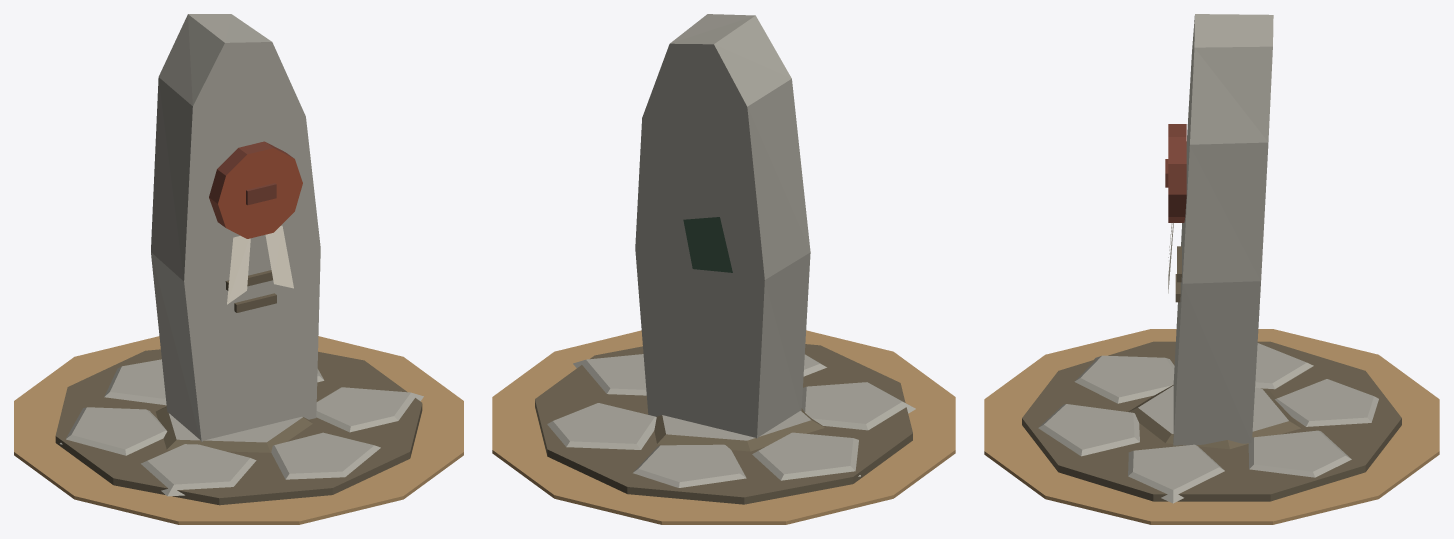
Rendered from charter-stone.glb.
3 views of the same model, side by side, from view 1: azimuth 30°, elevation 25°; view 2: azimuth 150°, elevation 25°; view 3: azimuth 270°, elevation 25° (orthographic). The views are drawn at different scales.
Parts seen in each view (by area): view 1: charter-stone; view 2: charter-stone; view 3: charter-stone.
Part boxes in pixels (x1,y1,x2,y2): charter-stone: [14, 14, 463, 524]; charter-stone: [492, 14, 955, 524]; charter-stone: [984, 14, 1439, 524].
Size of the model in its own units: 3.48 by 3.4 by 3.48.
1 material, 1 textured.
